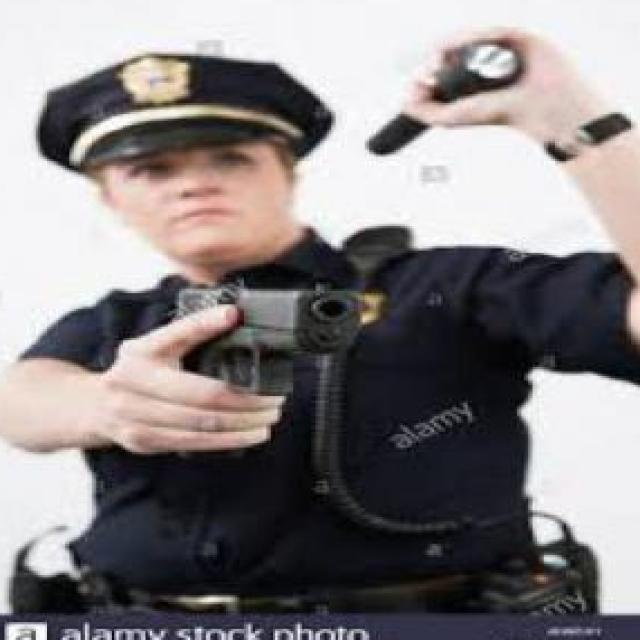pistol: (163, 276, 365, 464)
